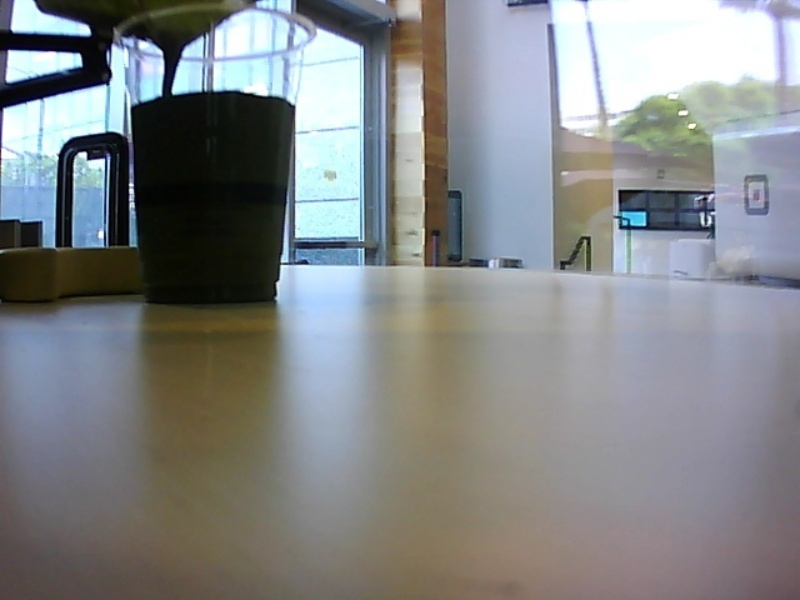cup: (109, 3, 321, 309)
limit: (127, 85, 301, 114)
